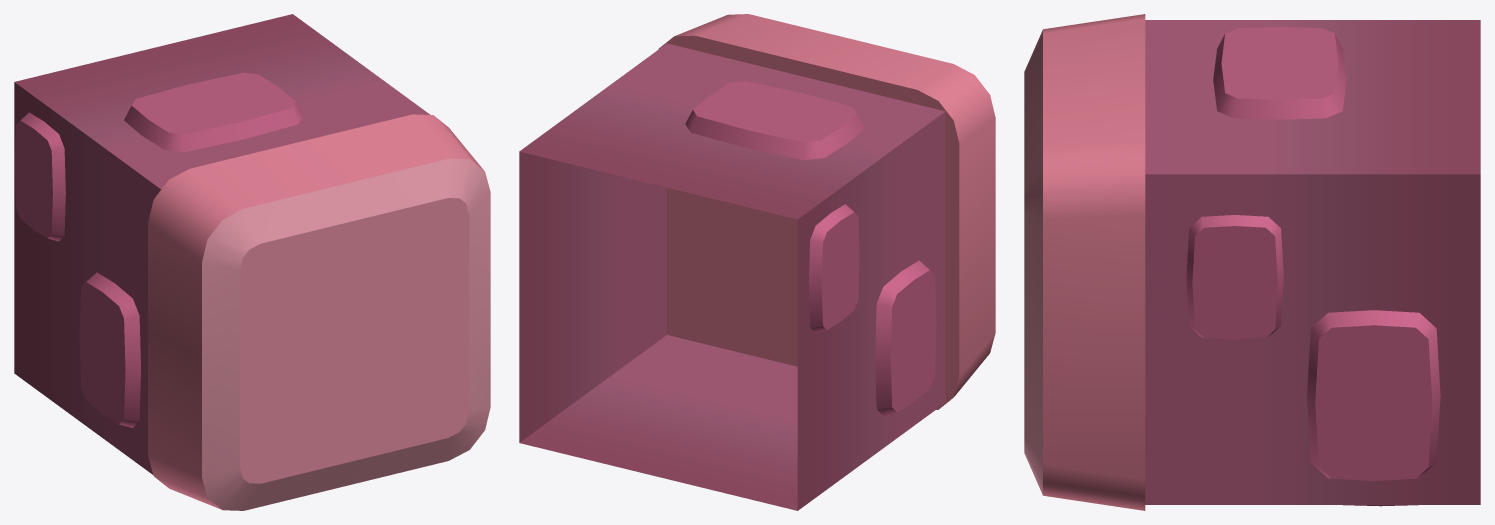
Rendered from hub_wall.glb.
3 renders of one model, left to right at view 1: azimuth 30°, elevation 25°; view 2: azimuth 150°, elevation 25°; view 3: azimuth 270°, elevation 25°, orthographic. The views are drawn at different scales.
Visible parts, largest first — view 1: rock_hub; view 2: rock_hub; view 3: rock_hub.
Boxes of the visible parts, x1,y1,x2,y2 form: rock_hub: [14, 14, 490, 510]; rock_hub: [519, 14, 995, 510]; rock_hub: [1024, 14, 1480, 510].
Bounding box in the file's own units: 1.1 × 1.11 × 1.25.
1 material, 1 textured.
